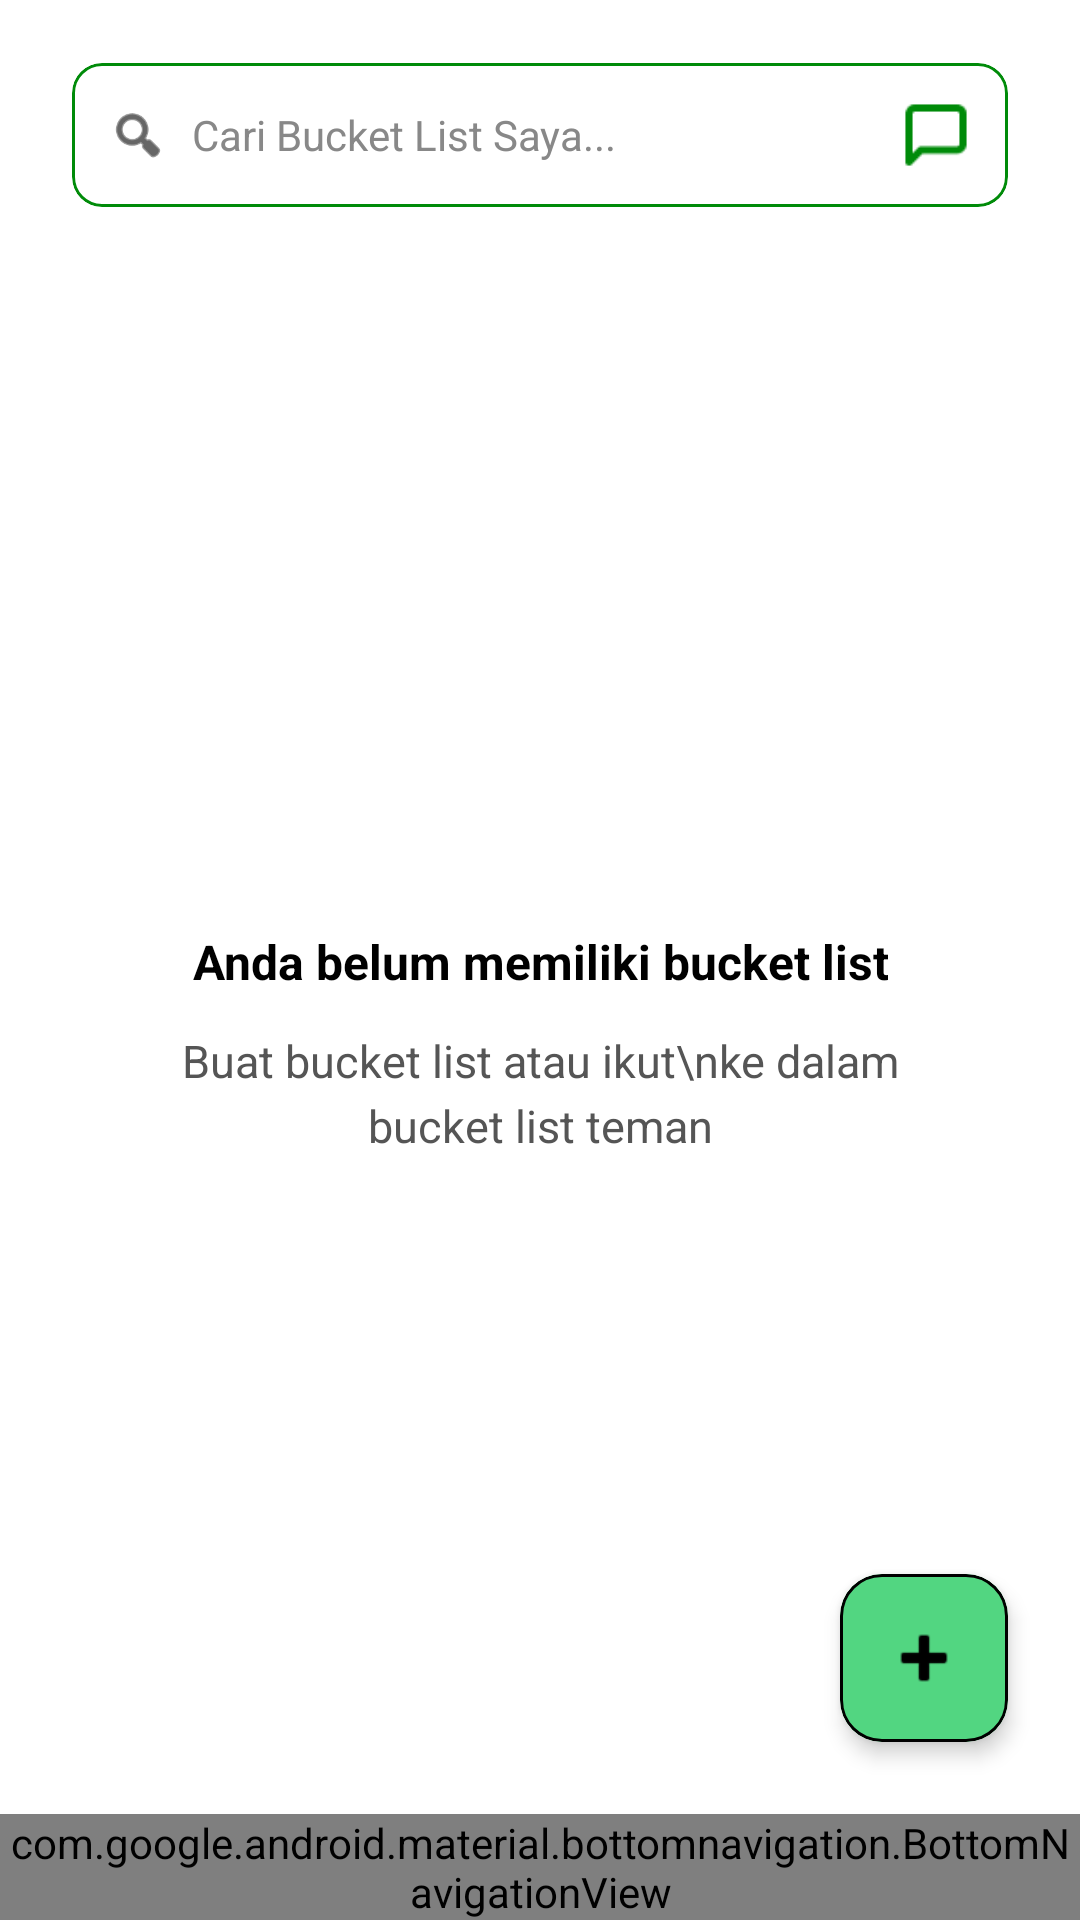

Icon click points for this 1080 x 1920 phone screenshot, format (x,y):
add: (924,1658)
message: (936,135)
search: (138,135)
